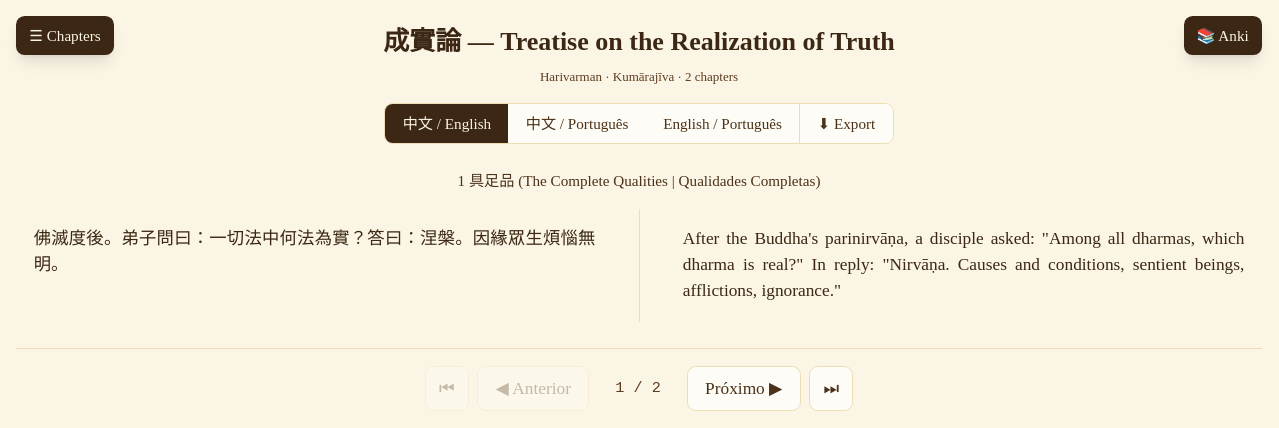
Test: App › navigates to next chapter
The width and height of the screenshot is (1279, 428).
# Click next arrow
Click the button "Próximo ▶" at (744, 389), box [687, 366, 801, 411]
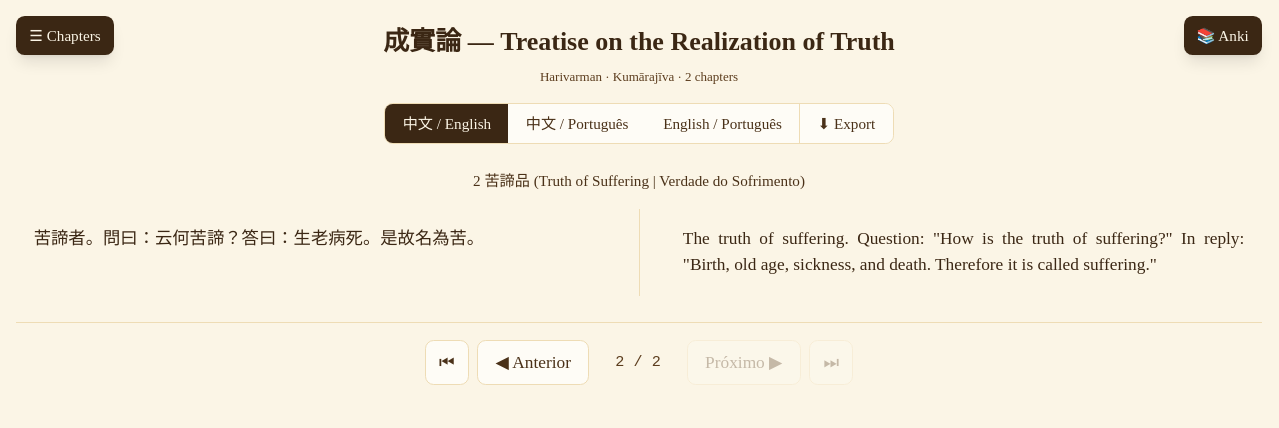
Result: the text "The truth of suffering" is shown at [683, 229, 1244, 274]
